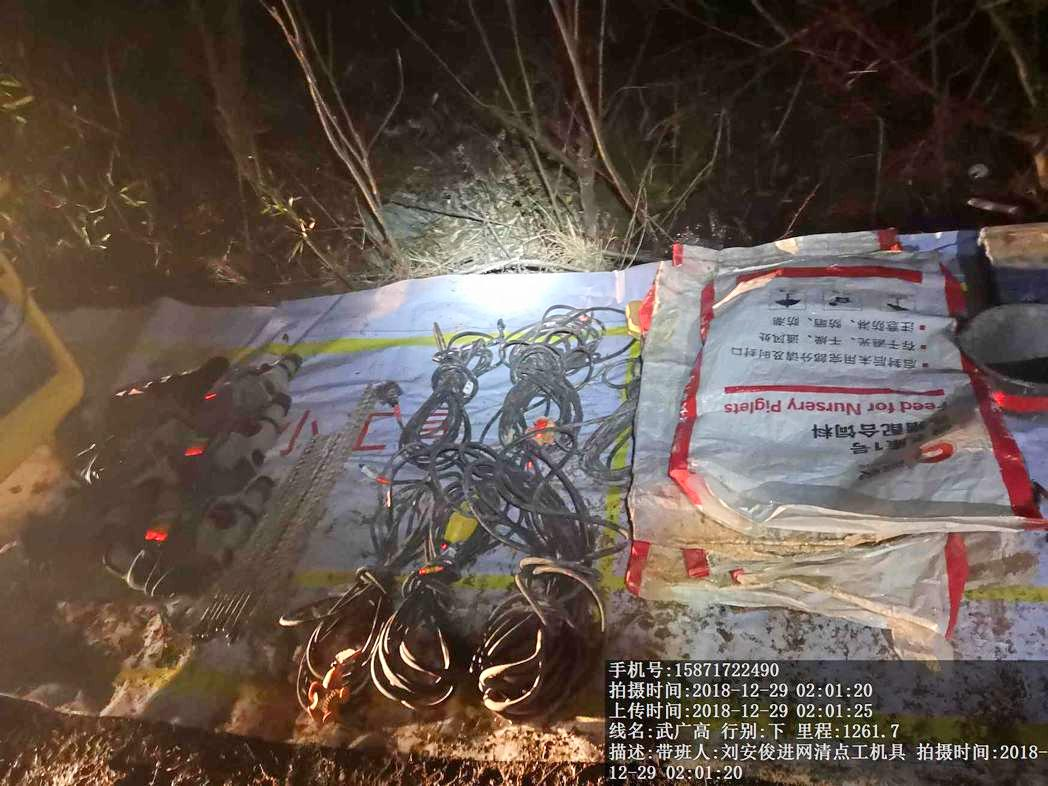BZD: (632, 236, 989, 635)
